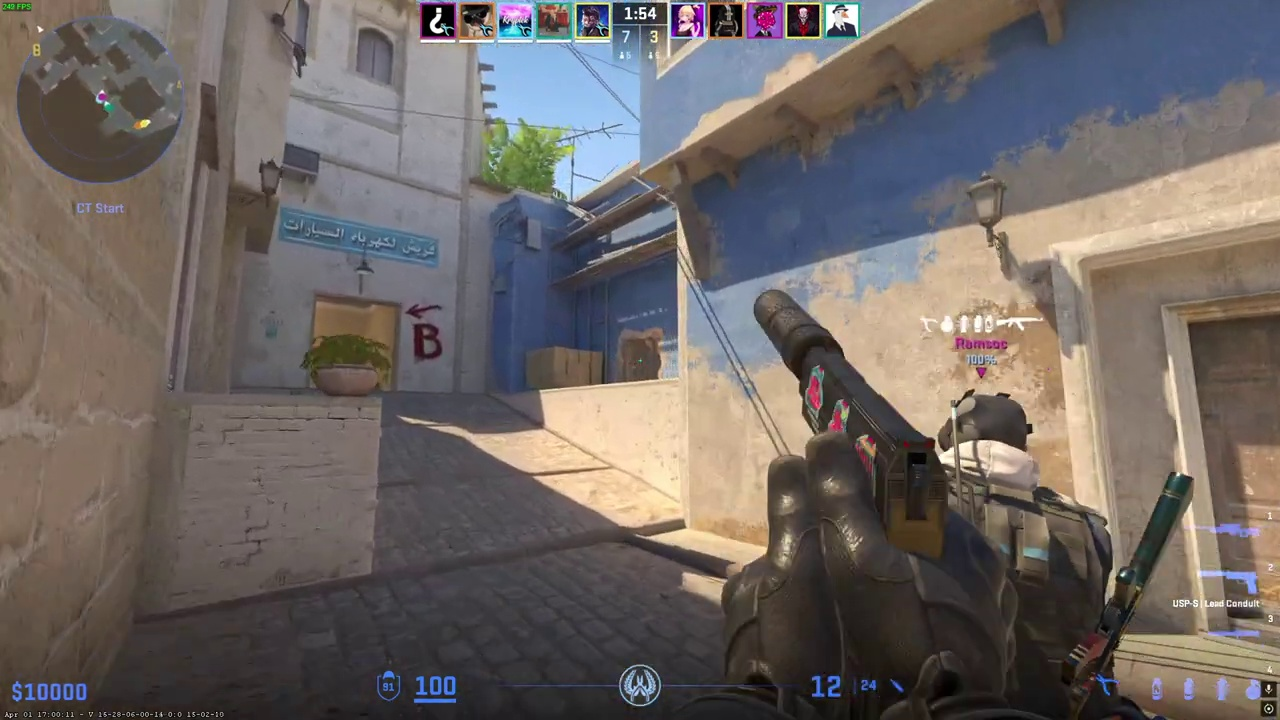CT: (934, 389, 1116, 720)
